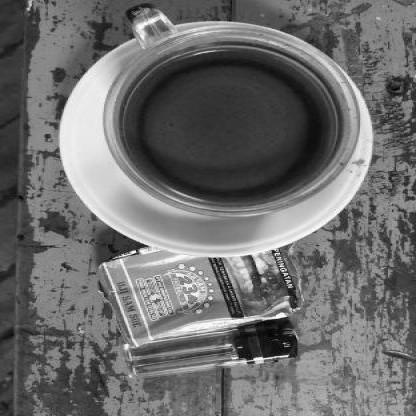objects: (98, 244, 303, 347)
